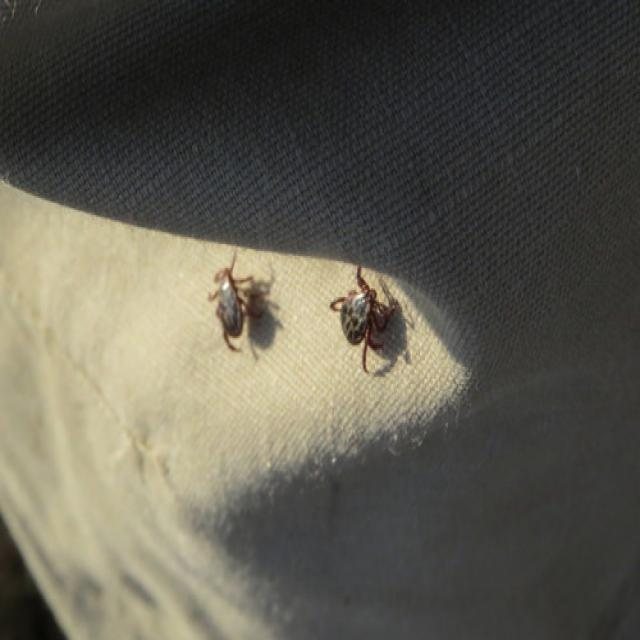Dermacentor Reticulatus-M: (330, 266, 396, 372), (207, 249, 265, 353)
